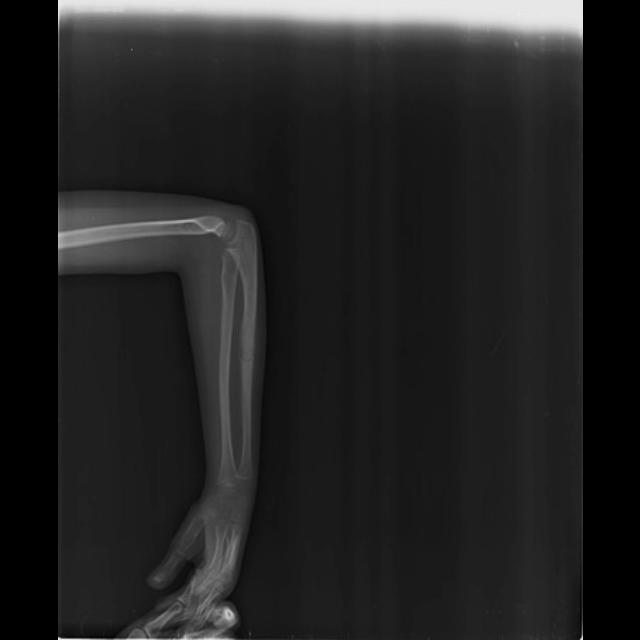Fracture: (233, 342, 254, 367)
